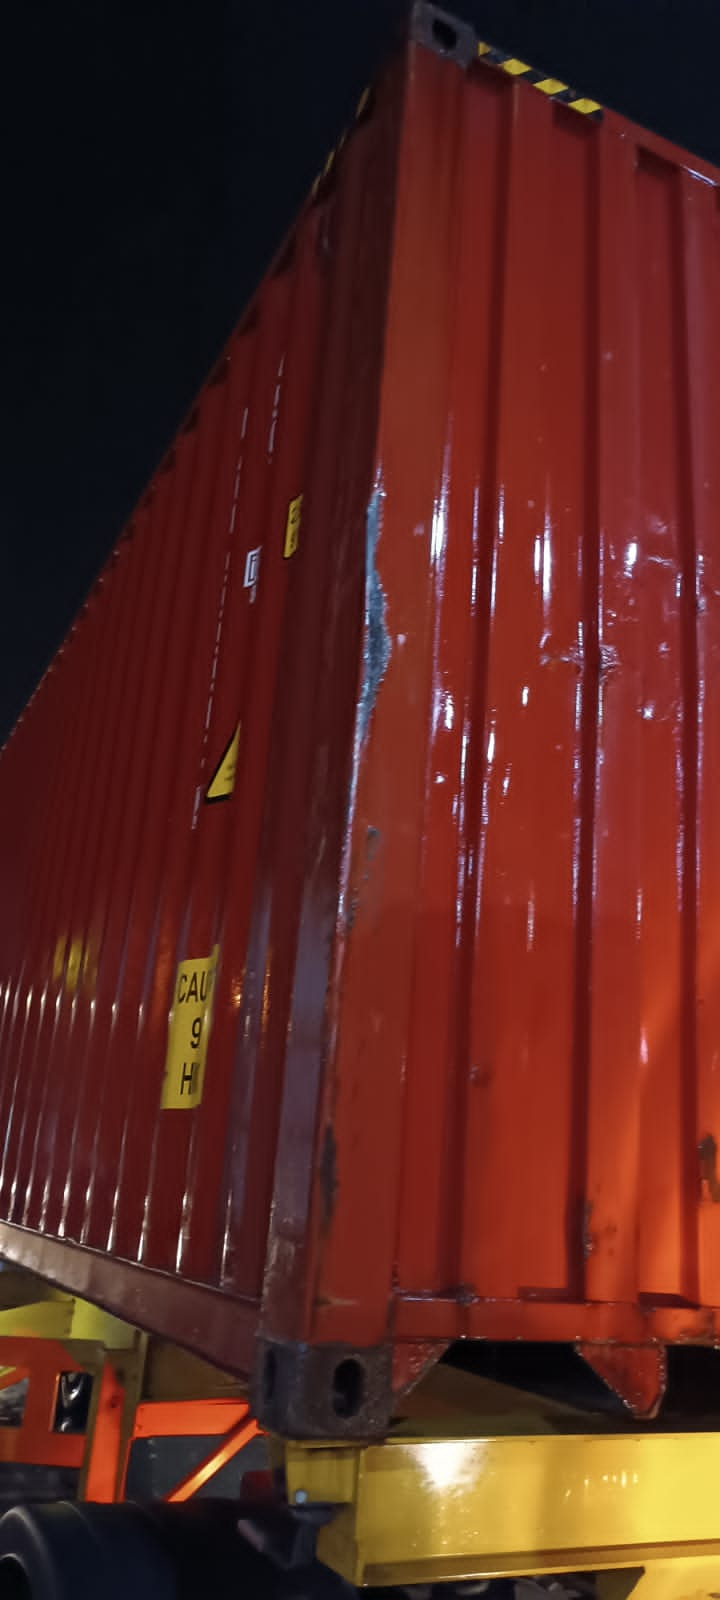moderate: (376, 498, 708, 750)
